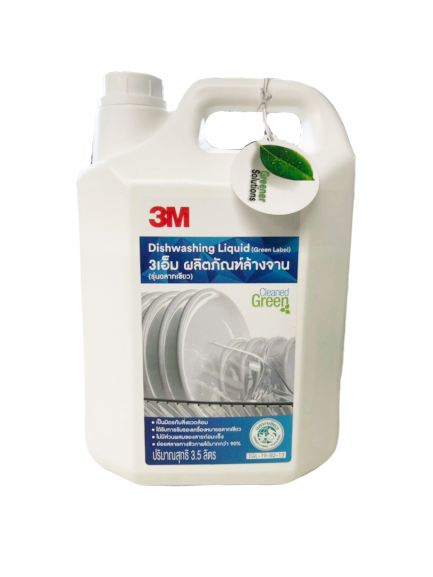Cleaning_solution: (74, 64, 358, 492)
